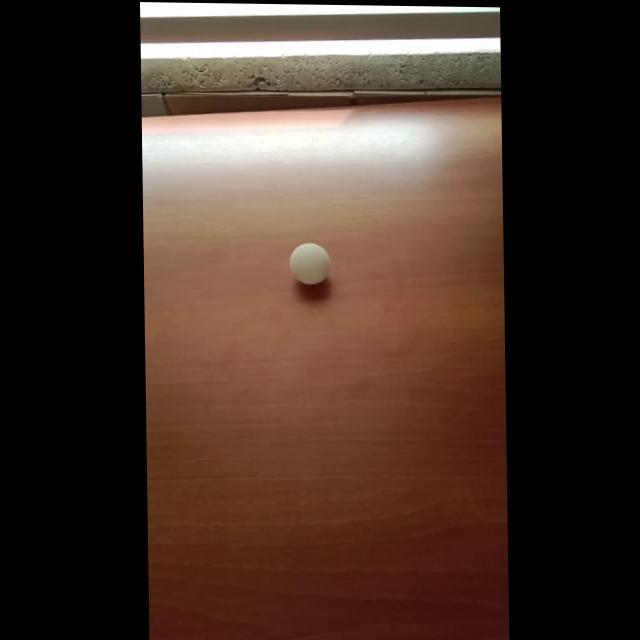white ball: (289, 242, 331, 285)
